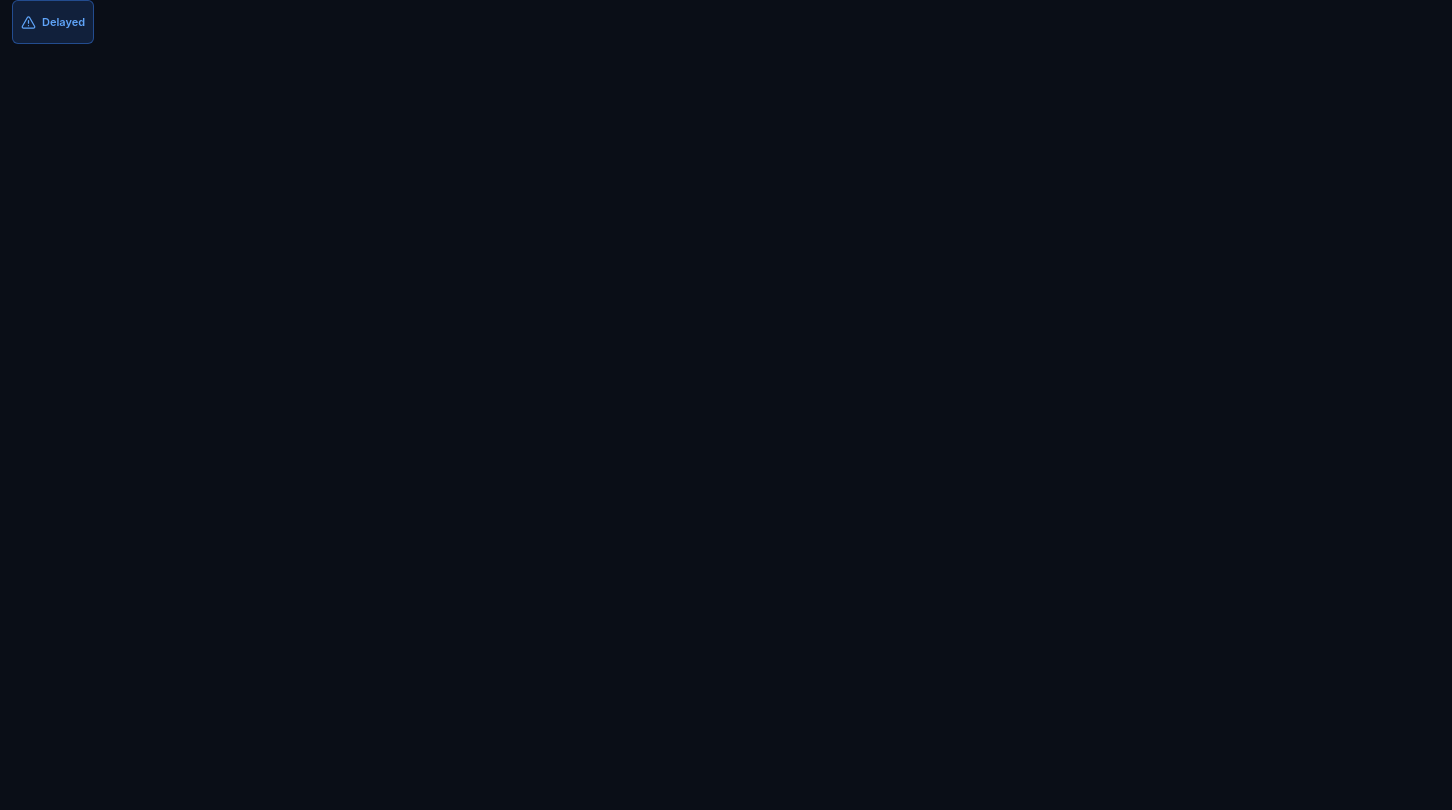
Test: DashboardHealth › does not turn zero-day non-fresh data into an unknown age
What coordinates should you click on to do the following:
click the button with aria-label "Workspace health:"
I would click on:
 (53, 22)
Its box is [12,0,94,44].
(page scrolled)
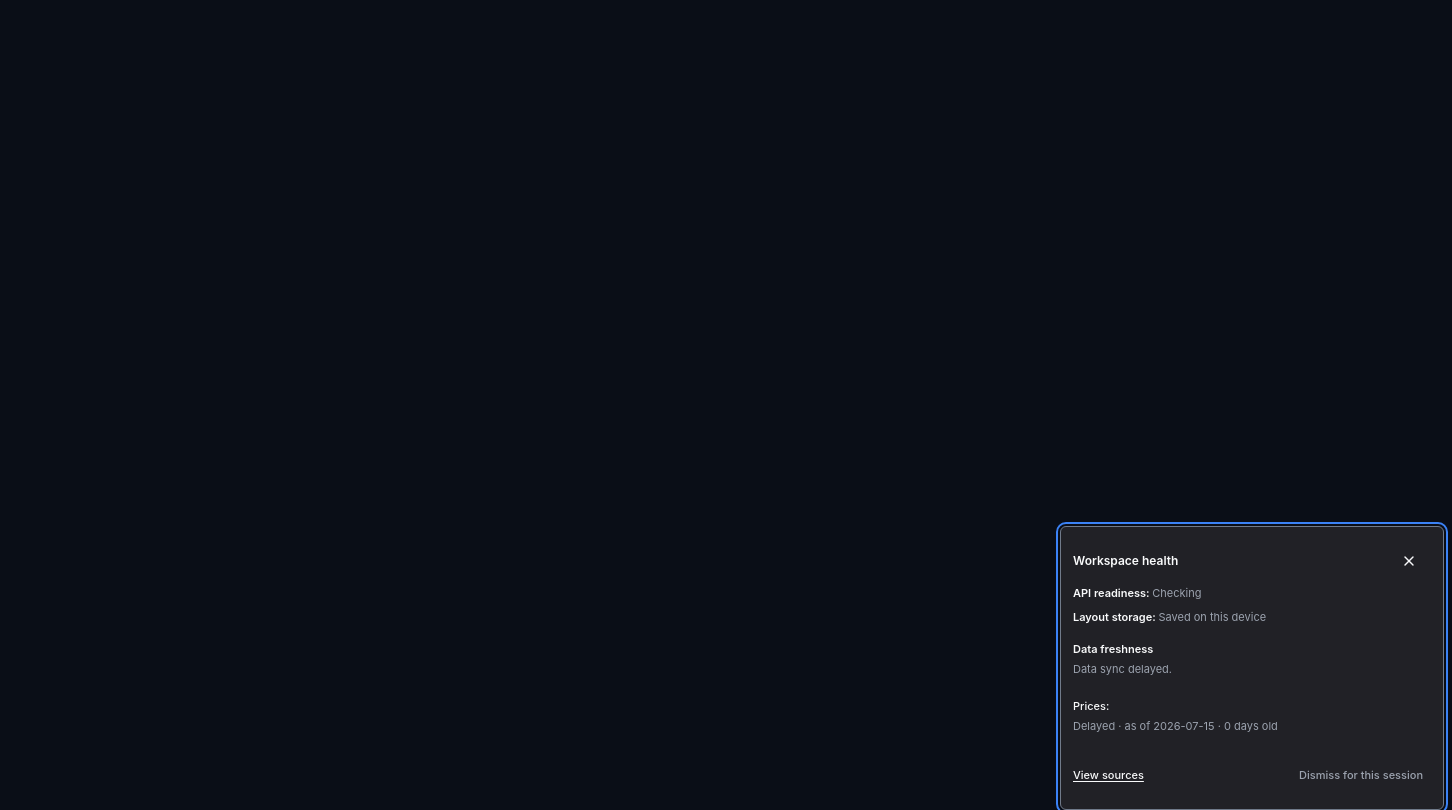
Check: the text "as of 2026-07-15 · 0 days old" is shown, box [1124,719,1278,733]
